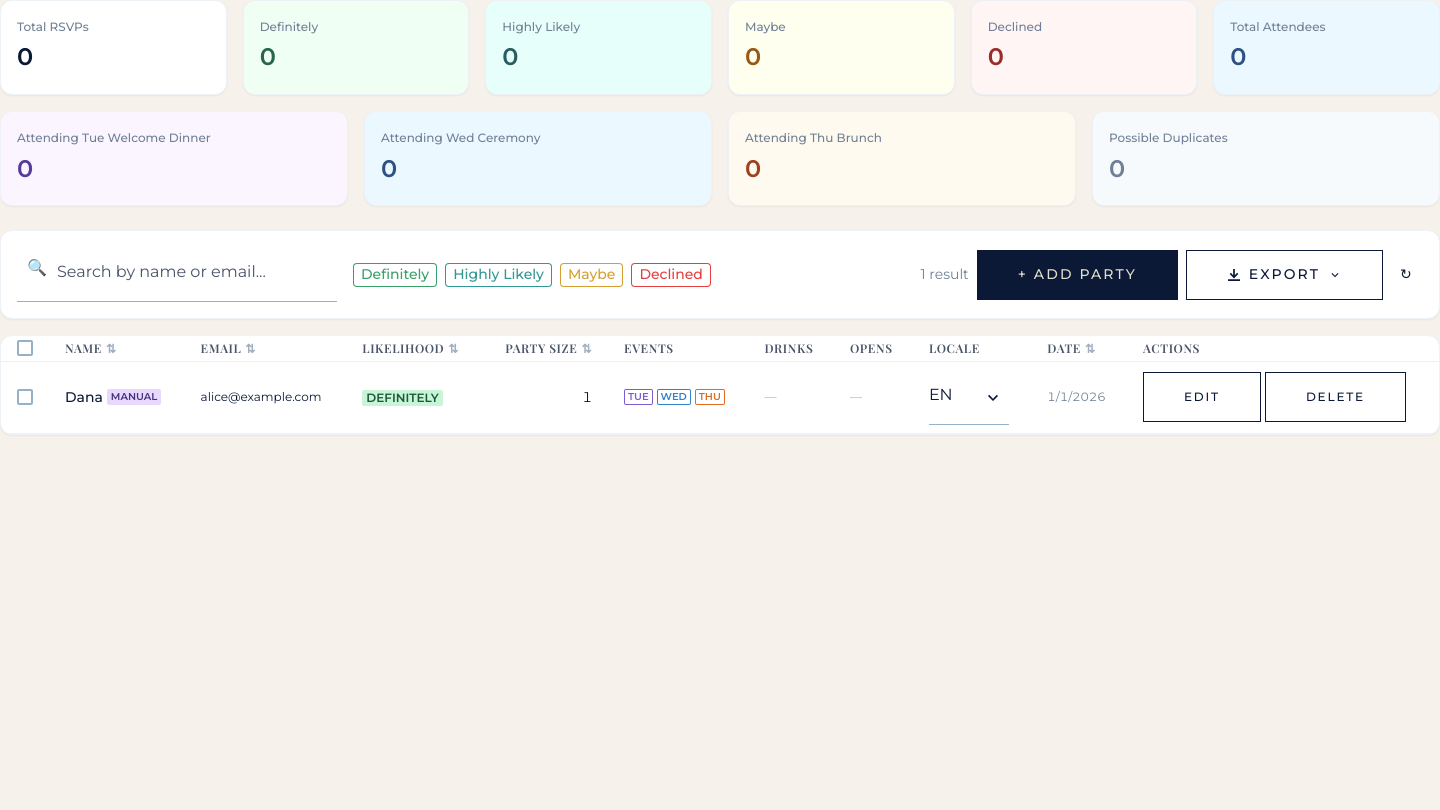
Test: RsvpDashboard — manually added parties › opens the Add Party modal (in edit mode) instead of the detail modal when a manual row is clicked
Click the text "Dana" at (84, 397), box left=65, top=389, right=103, bottom=405
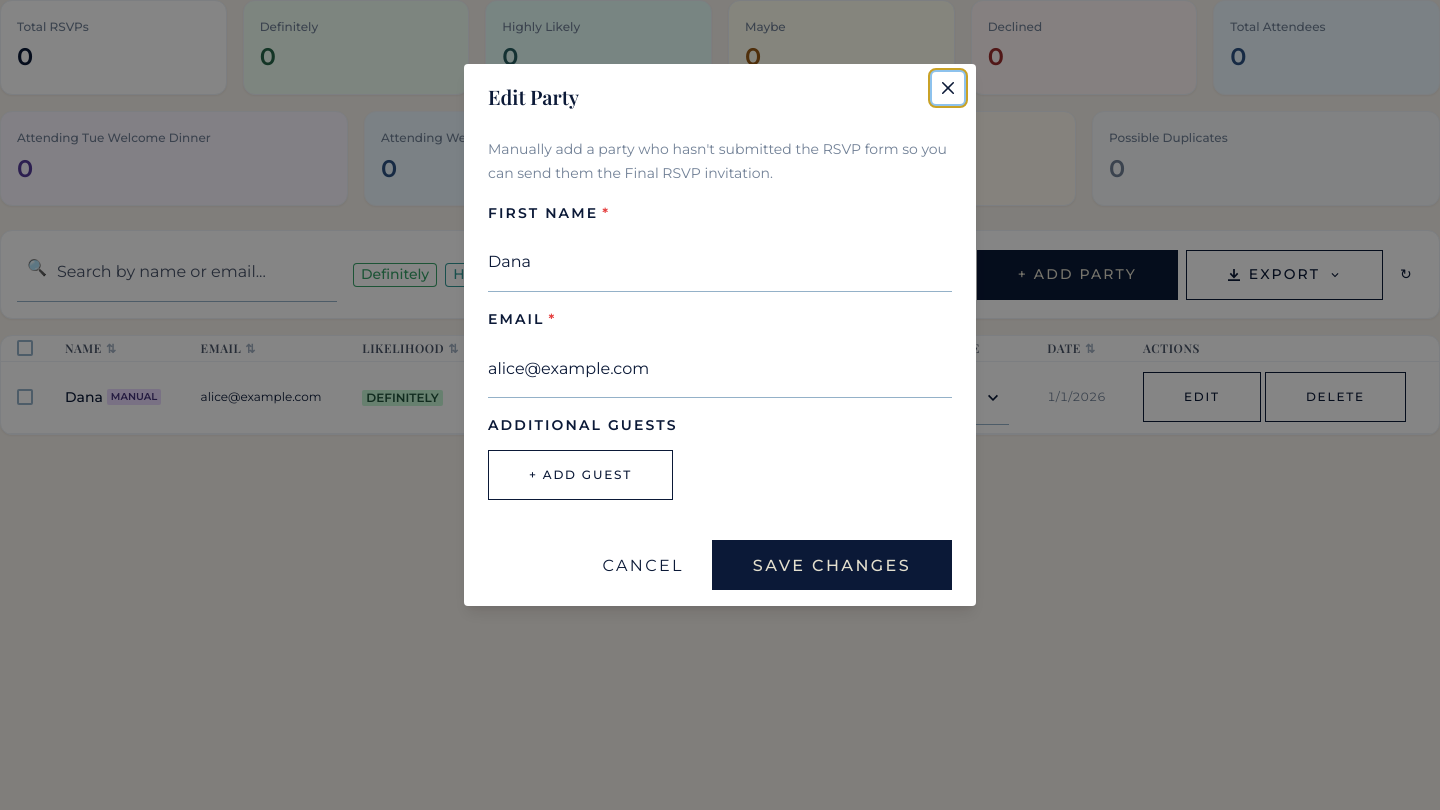
Now the button "Save Changes" is shown, box left=712, top=540, right=952, bottom=590
